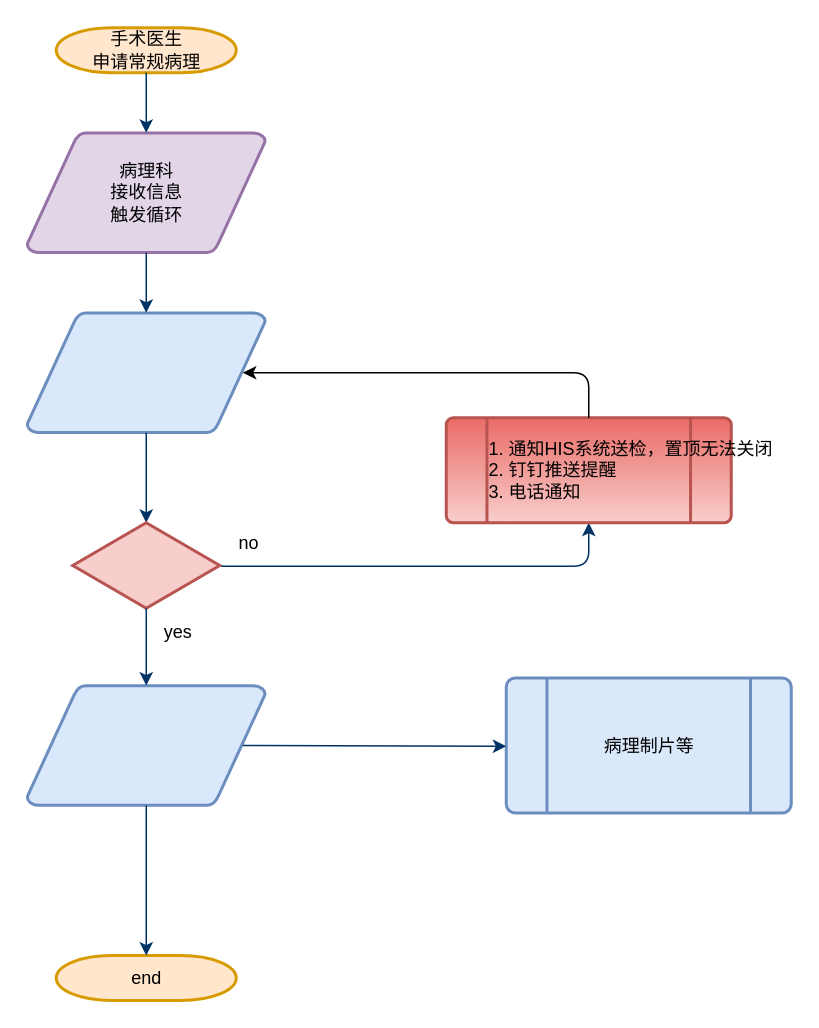
This 819x1028 diagram has some shape labels left out. The shapes that lost their labels are listed below. From the top down, each one's centre as x and y in pixels, then its label:
At (145,372): "30分钟自动抓取 相应样本是否送检".
At (145,564): "是否获得样本？".
At (145,744): "进入下一阶段".
